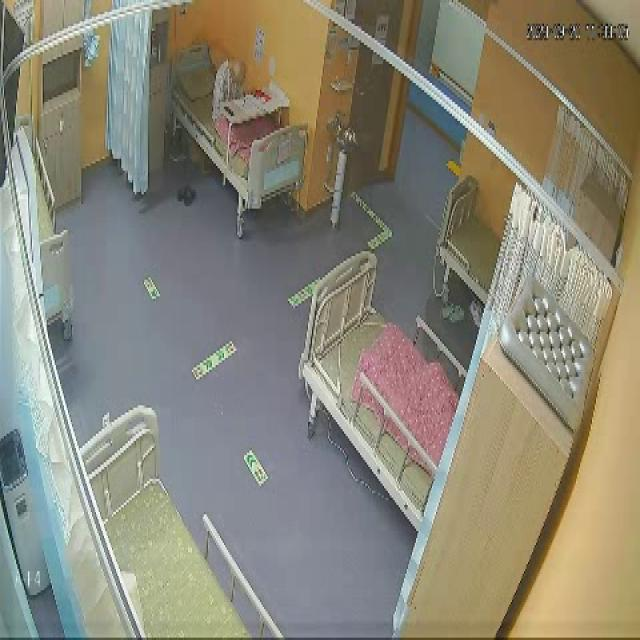bed: (79, 403, 283, 640), (304, 253, 458, 526), (170, 45, 306, 208), (436, 178, 502, 306)
patient: (211, 52, 247, 126)
sit: (210, 52, 248, 127)
